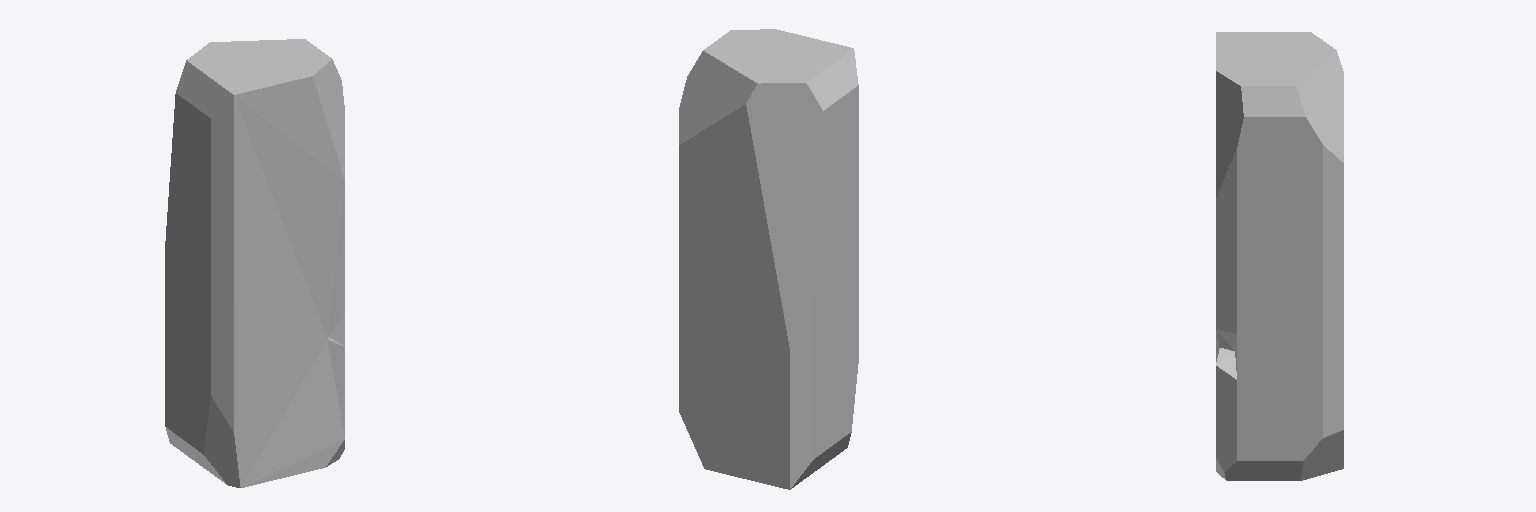
File: RockPillar2.obj
3 renders of one model, left to right at view 1: azimuth 30°, elevation 25°; view 2: azimuth 150°, elevation 25°; view 3: azimuth 270°, elevation 25°, orthographic.
Parts seen in each view (by area): view 1: Cube_006; view 2: Cube_006; view 3: Cube_006.
Part boxes in pixels (left/top/right/bottom): Cube_006: left=165, top=39, right=344, bottom=487; Cube_006: left=679, top=29, right=858, bottom=489; Cube_006: left=1216, top=32, right=1343, bottom=480.
Size of the model in its own units: 96.48 by 268 by 78.89.